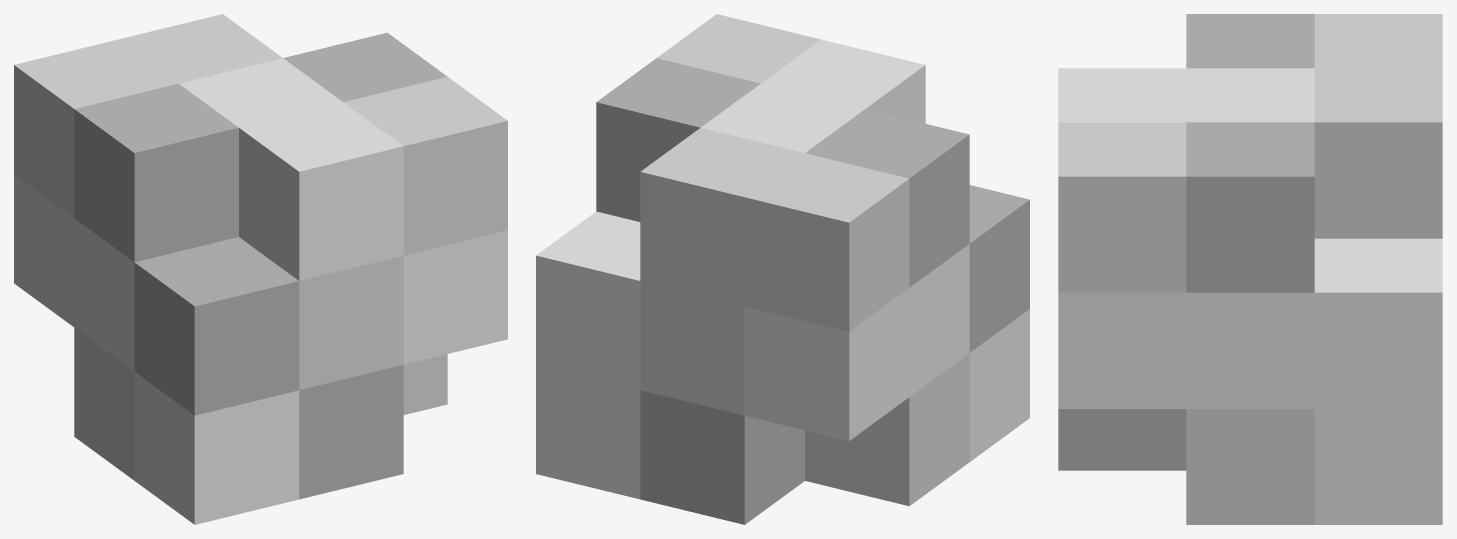
The model's file is F_Garbage4.obj.
The picture shows the model from 3 angles, left to right: view 1: azimuth 30°, elevation 25°; view 2: azimuth 150°, elevation 25°; view 3: azimuth 270°, elevation 25°; orthographic projection. The views are drawn at different scales.
Parts seen in each view (by area): view 1: F_Garbage4; view 2: F_Garbage4; view 3: F_Garbage4.
Part boxes in pixels (bbox=[...]): F_Garbage4: bbox=[14, 14, 507, 524]; F_Garbage4: bbox=[536, 14, 1029, 524]; F_Garbage4: bbox=[1058, 14, 1442, 524].
Bounding box in the file's own units: 0.3 × 0.3 × 0.3.
Materials: 1 (1 with a texture image).
